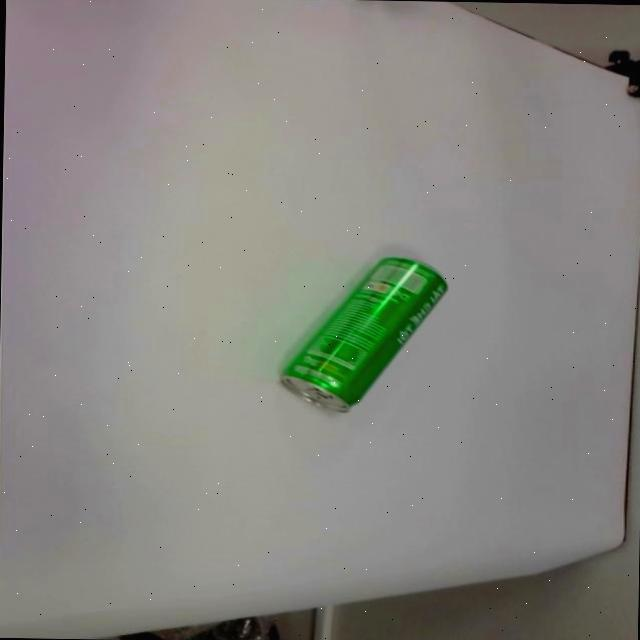debris: (280, 252, 448, 413)
